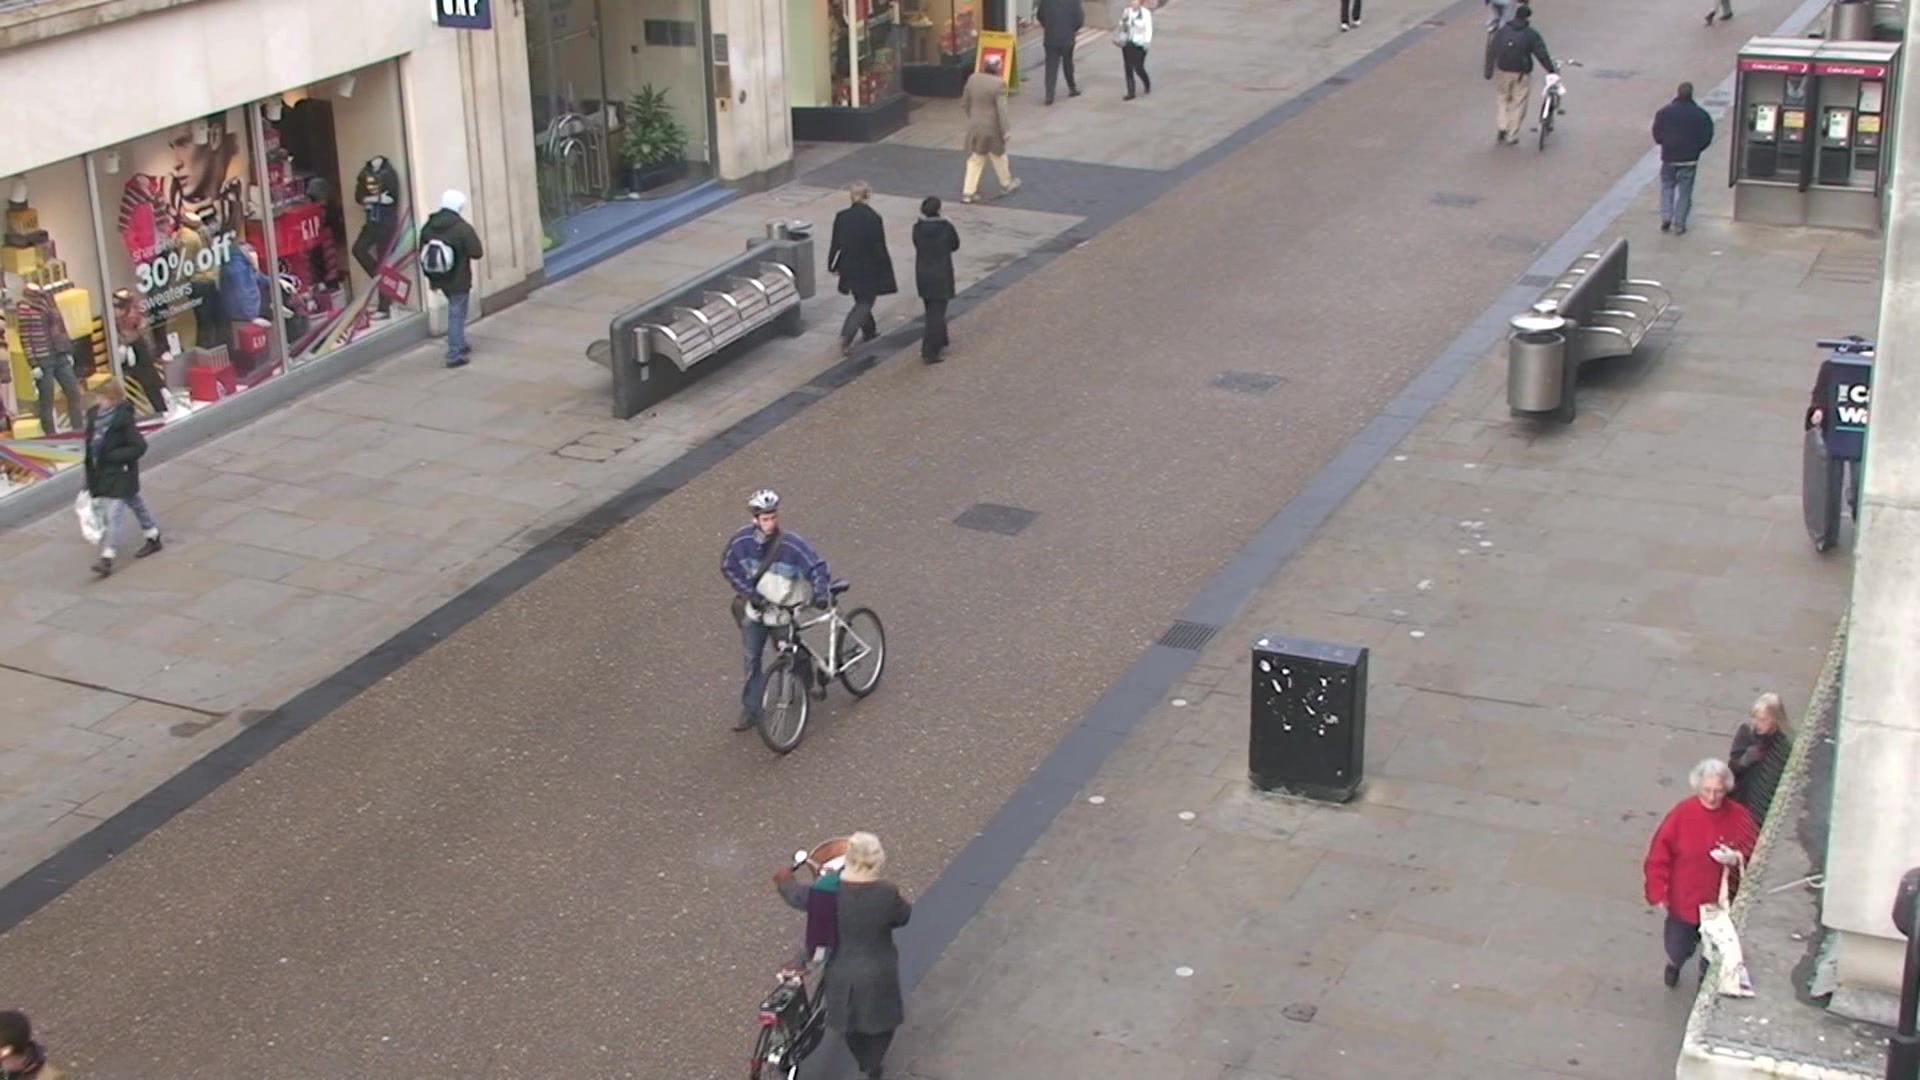person: (771, 827, 913, 1080), (719, 490, 838, 735), (1642, 760, 1757, 990), (77, 377, 164, 581), (828, 181, 901, 358), (420, 188, 483, 371), (1483, 4, 1561, 145), (1651, 81, 1714, 235), (959, 53, 1021, 204), (911, 193, 961, 367)
